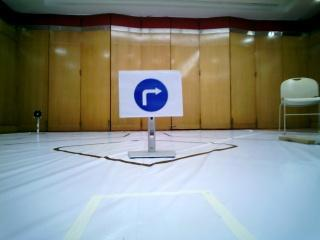right: (120, 71, 182, 117)
